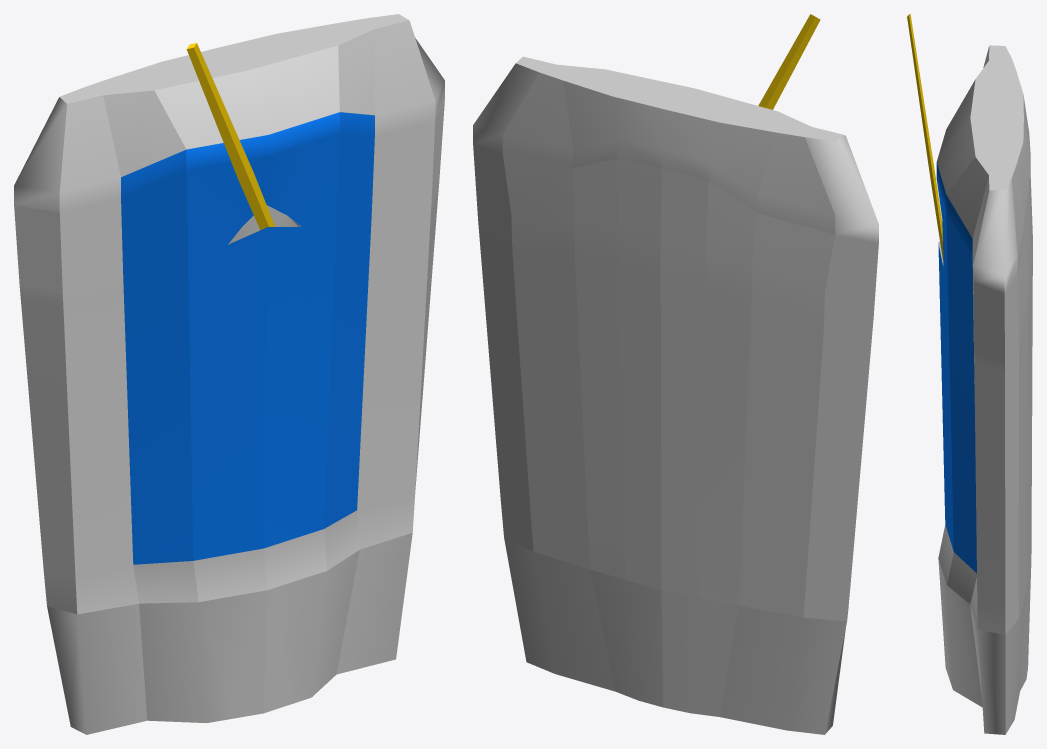
File: CAPRI_SUN.fbx
3 renders of one model, left to right at view 1: azimuth 30°, elevation 25°; view 2: azimuth 150°, elevation 25°; view 3: azimuth 270°, elevation 25°, orthographic. The views are drawn at different scales.
Visible parts, largest first — view 1: CAPRI_SUN, STRAW1; view 2: CAPRI_SUN, STRAW1; view 3: CAPRI_SUN, STRAW1.
Boxes of the visible parts, x1,y1,x2,y2 form: CAPRI_SUN: (14, 14, 444, 734); STRAW1: (186, 43, 275, 230); CAPRI_SUN: (473, 56, 878, 734); STRAW1: (758, 14, 820, 109); CAPRI_SUN: (936, 45, 1032, 734); STRAW1: (907, 14, 943, 260).
Size of the model in its own units: 2.3 by 3.62 by 0.6711.
